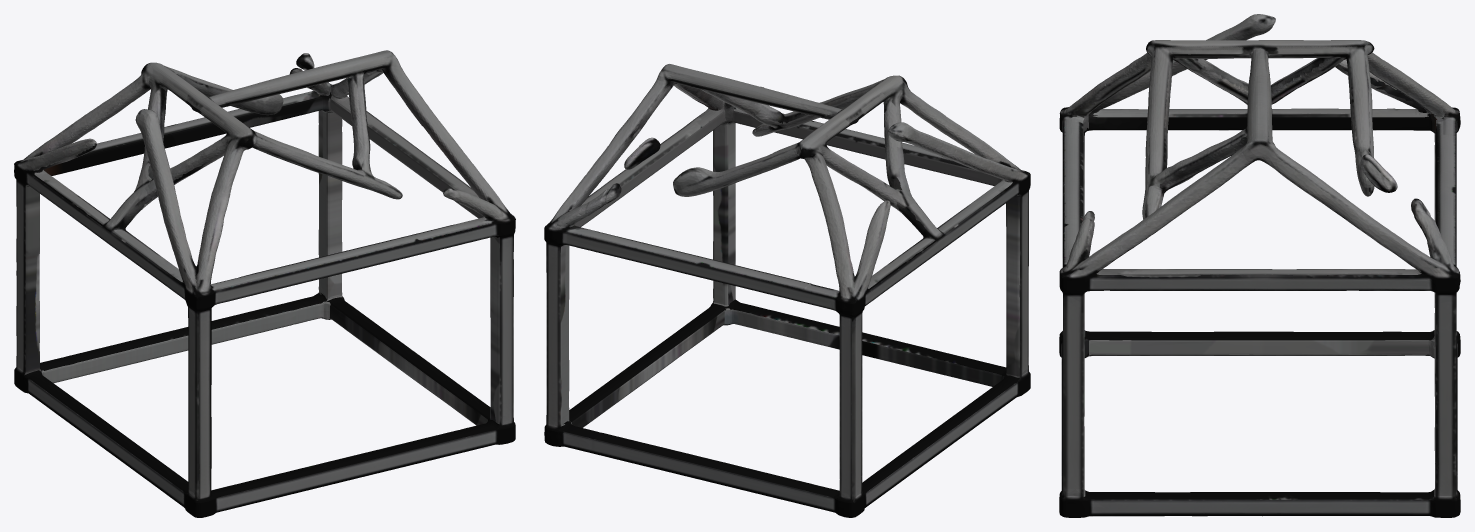
File: feature-greenhouse-frame.glb
3 renders of one model, left to right at view 1: azimuth 30°, elevation 25°; view 2: azimuth 150°, elevation 25°; view 3: azimuth 270°, elevation 25°, orthographic. The views are drawn at different scales.
Parts seen in each view (by area): view 1: tmp1ktsfe0o.ply; view 2: tmp1ktsfe0o.ply; view 3: tmp1ktsfe0o.ply.
Boxes of the visible parts, left/top/right/bottom form: tmp1ktsfe0o.ply: left=14, top=50, right=515, bottom=517; tmp1ktsfe0o.ply: left=544, top=64, right=1030, bottom=517; tmp1ktsfe0o.ply: left=1059, top=14, right=1460, bottom=517.
Size of the model in its own units: 1 by 1 by 1.
1 material, 1 textured.
